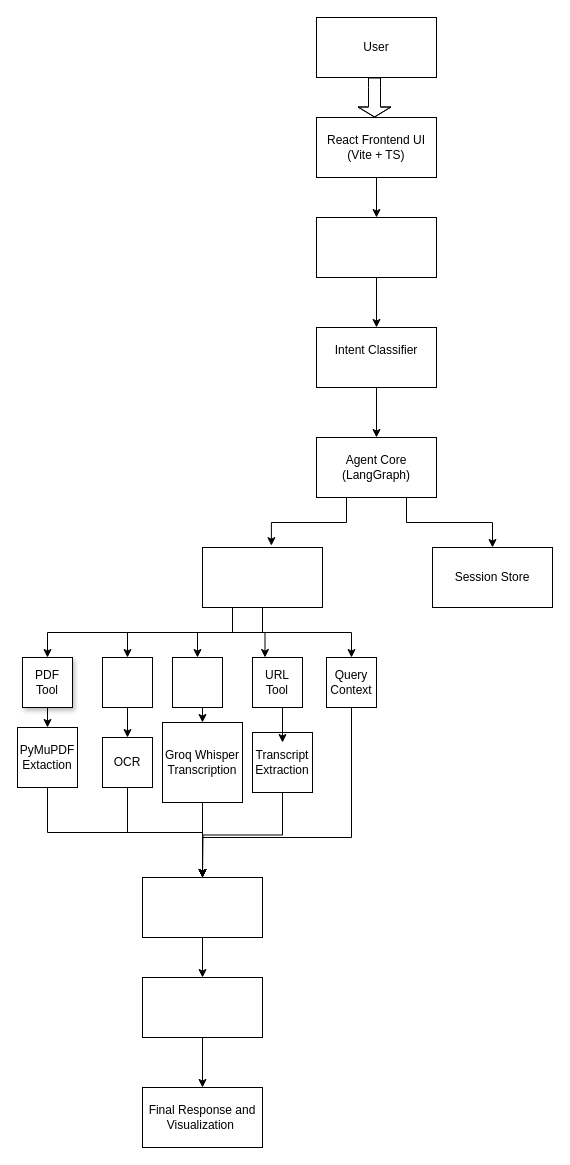
Some shapes in this 570 by 1165 pixel diagram are drawn without their labels. The centre of each missing label's shape, as x and y in pixels:
"Agent Trace Generator" goes at pixel 202 1007.
"Audio Tool" goes at pixel 197 682.
"FastAPI Backend API Layer" goes at pixel 376 247.
"Groq LLM (Reasoning) Summarize / QA/ Explanation" goes at pixel 202 907.
"Image Tool" goes at pixel 127 682.
"Tool Registry" goes at pixel 262 577.
